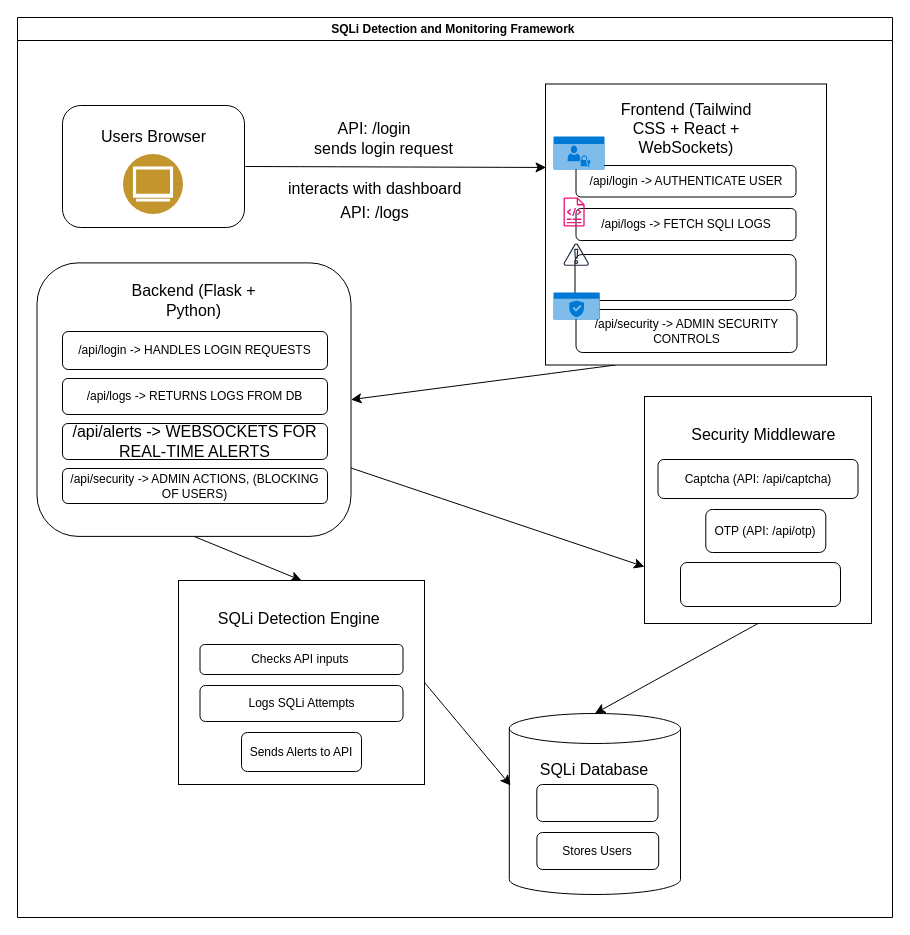
Image size: 910x935. Some labels were removed from this diagram. Here are the shapes that lost their labels. From the top down, the box of each, then its label:
(553, 136, 604, 169): Login
(574, 254, 796, 300): /api/alerts -> GET LIVE SQLi ALERTS VIA WEBSOCKETS
(553, 292, 599, 319): Security
(680, 562, 840, 606): Rate Limiting (API requests)
(536, 784, 658, 822): Stores SQLi Logs
